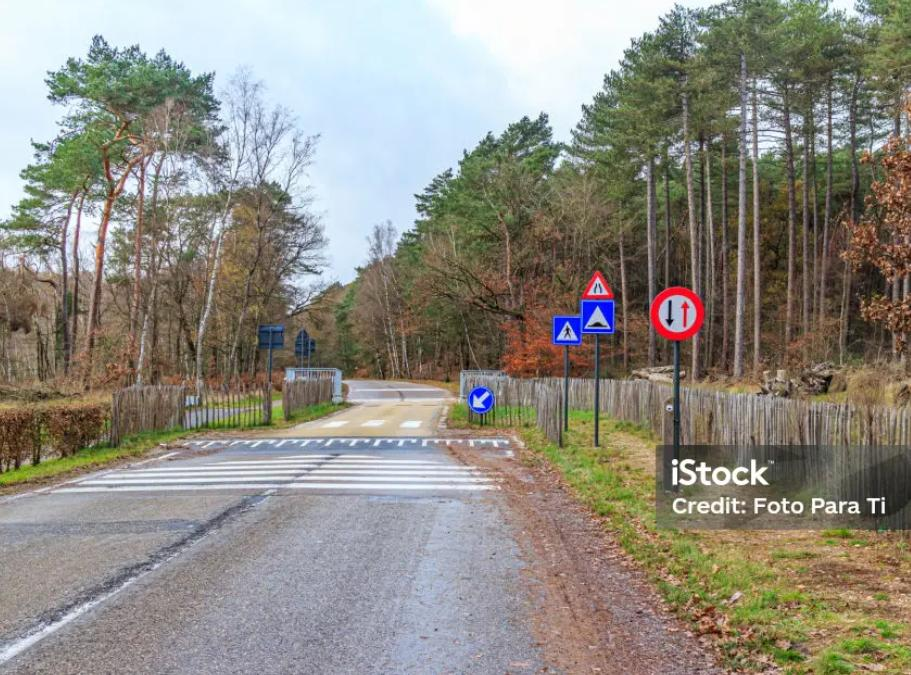road_sign: (650, 286, 702, 339), (581, 299, 614, 335), (581, 269, 615, 299), (468, 386, 496, 414), (553, 316, 581, 343)
